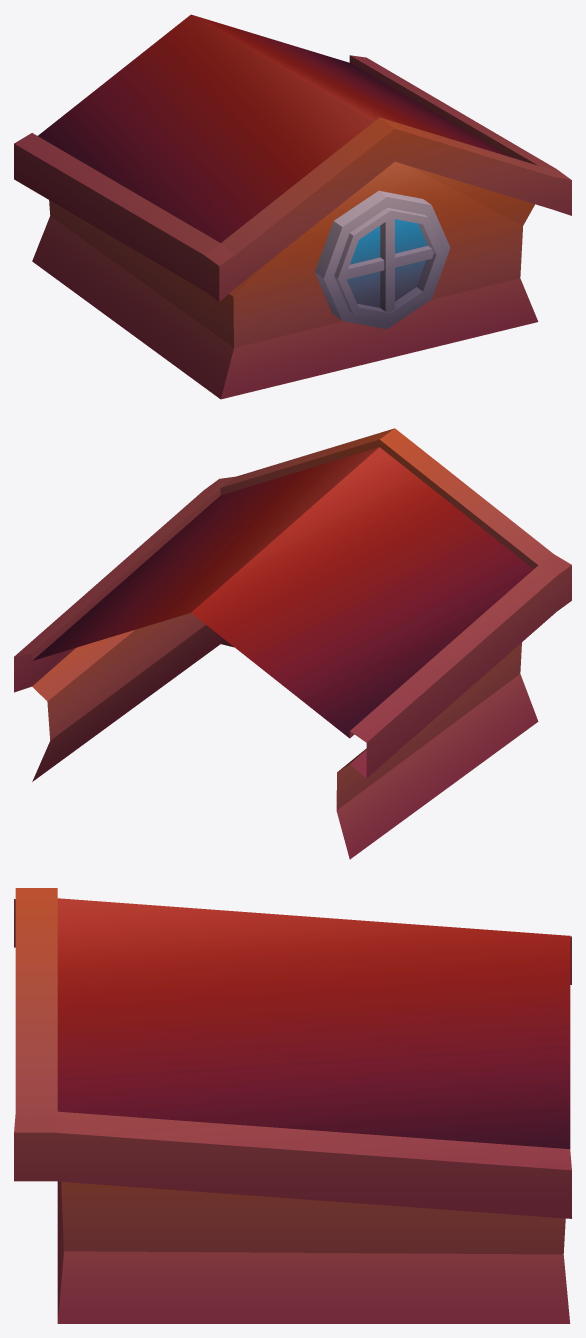
Rendered from House_3.fbx.
3 renders of one model, top to bottom at view 1: azimuth 30°, elevation 25°; view 2: azimuth 150°, elevation 25°; view 3: azimuth 270°, elevation 25°, orthographic. The views are drawn at different scales.
Parts seen in each view (by area): view 1: Roof Window; view 2: Roof Window; view 3: Roof Window.
Part boxes in pixels (x1,y1,x2,y2): Roof Window: (14, 14, 571, 399); Roof Window: (14, 428, 571, 859); Roof Window: (14, 888, 571, 1323).
Size of the model in its own units: 210 by 139 by 212.
